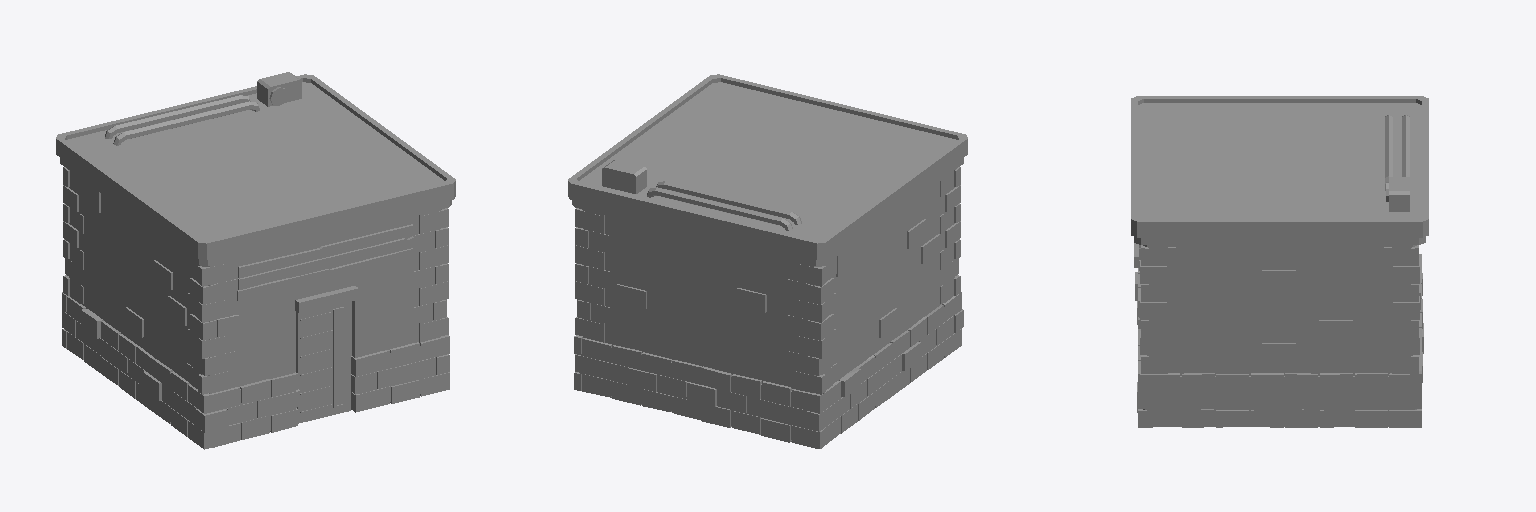
Rendered from 1Story_Sign.obj.
3 views of the same model, side by side, from view 1: azimuth 30°, elevation 25°; view 2: azimuth 150°, elevation 25°; view 3: azimuth 270°, elevation 25° (orthographic).
Visible parts, largest first — view 1: 1Story_Sign_Cube.105; view 2: 1Story_Sign_Cube.105; view 3: 1Story_Sign_Cube.105.
Boxes of the visible parts, <box> form: 1Story_Sign_Cube.105: <box>56,72,455,449</box>; 1Story_Sign_Cube.105: <box>568,74,967,448</box>; 1Story_Sign_Cube.105: <box>1131,96,1428,427</box>.
Bounding box in the file's own units: 2.15 × 1.79 × 2.15.